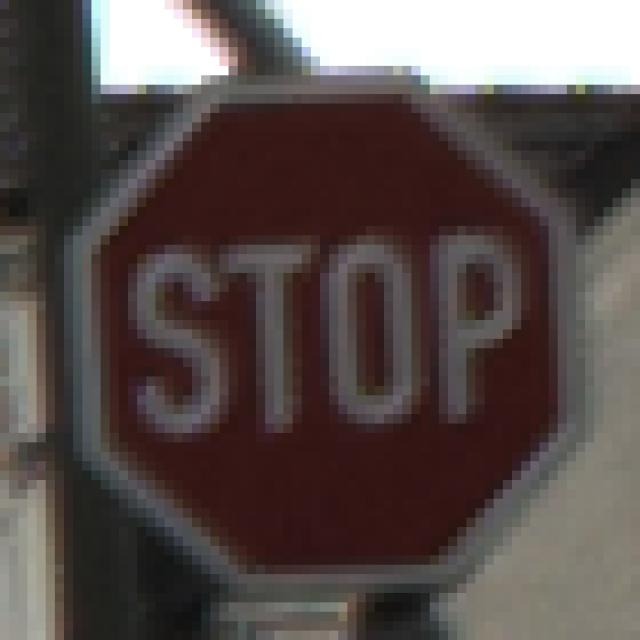STOP: (65, 58, 577, 585)
